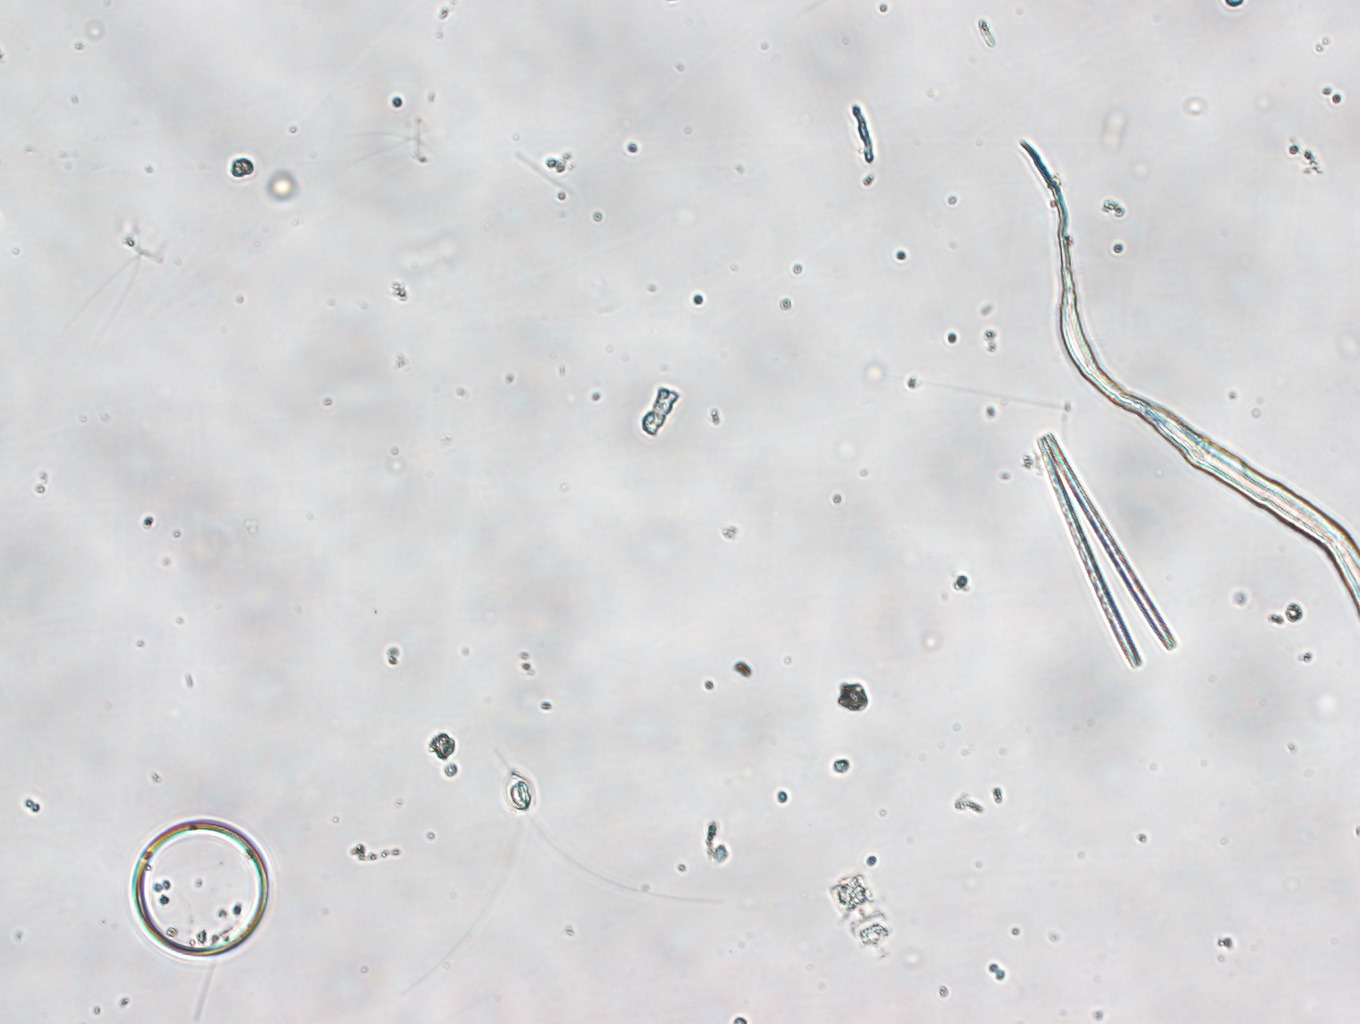coscinodiscus: (130, 809, 273, 965)
thalassionema frauenfeldii: (1029, 425, 1186, 675)
